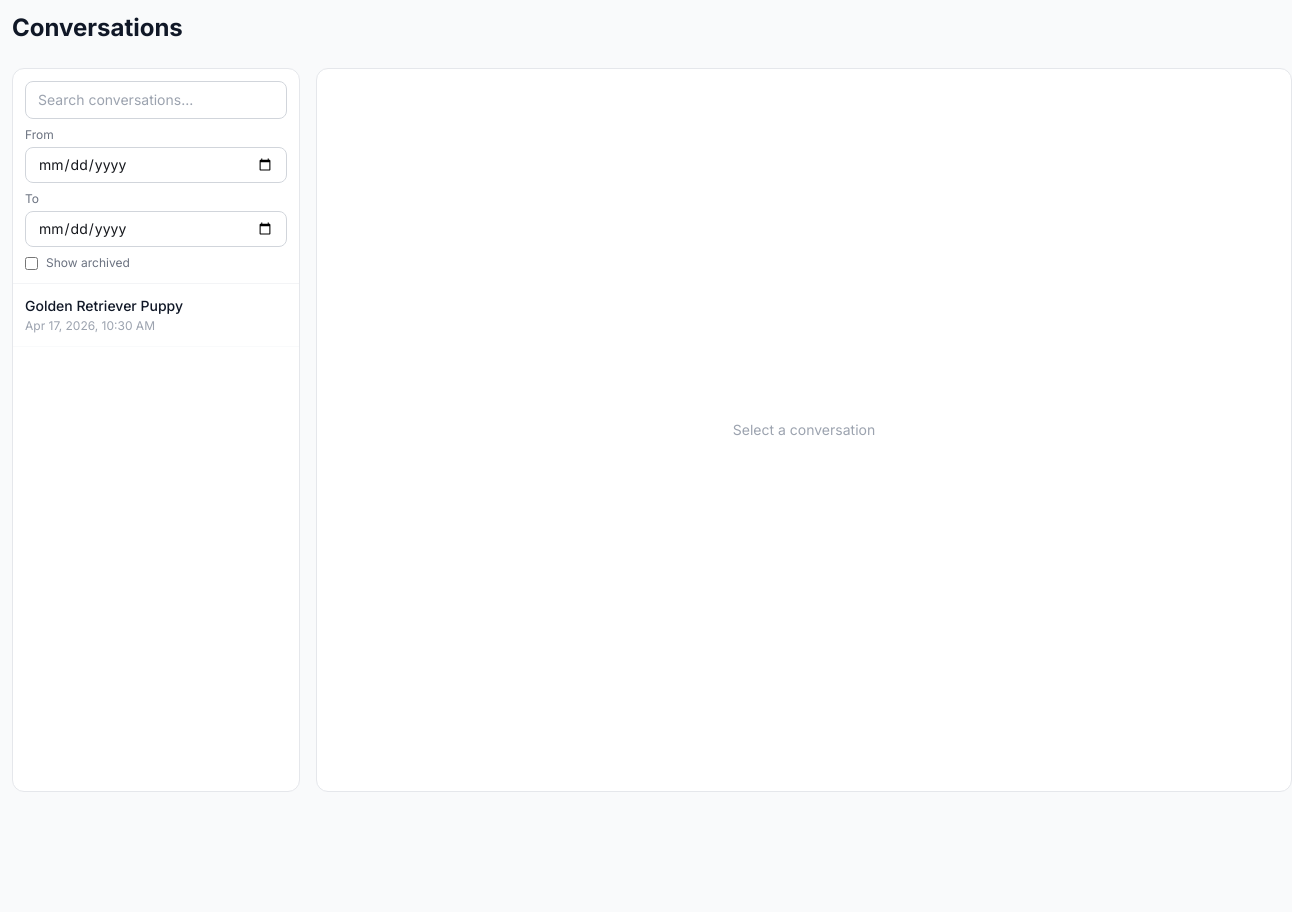
Test: Conversations — internal note message visibility › vendor can see the internal note message
Click the text "Golden Retriever Puppy" at [104, 306], box [25,297,183,314]
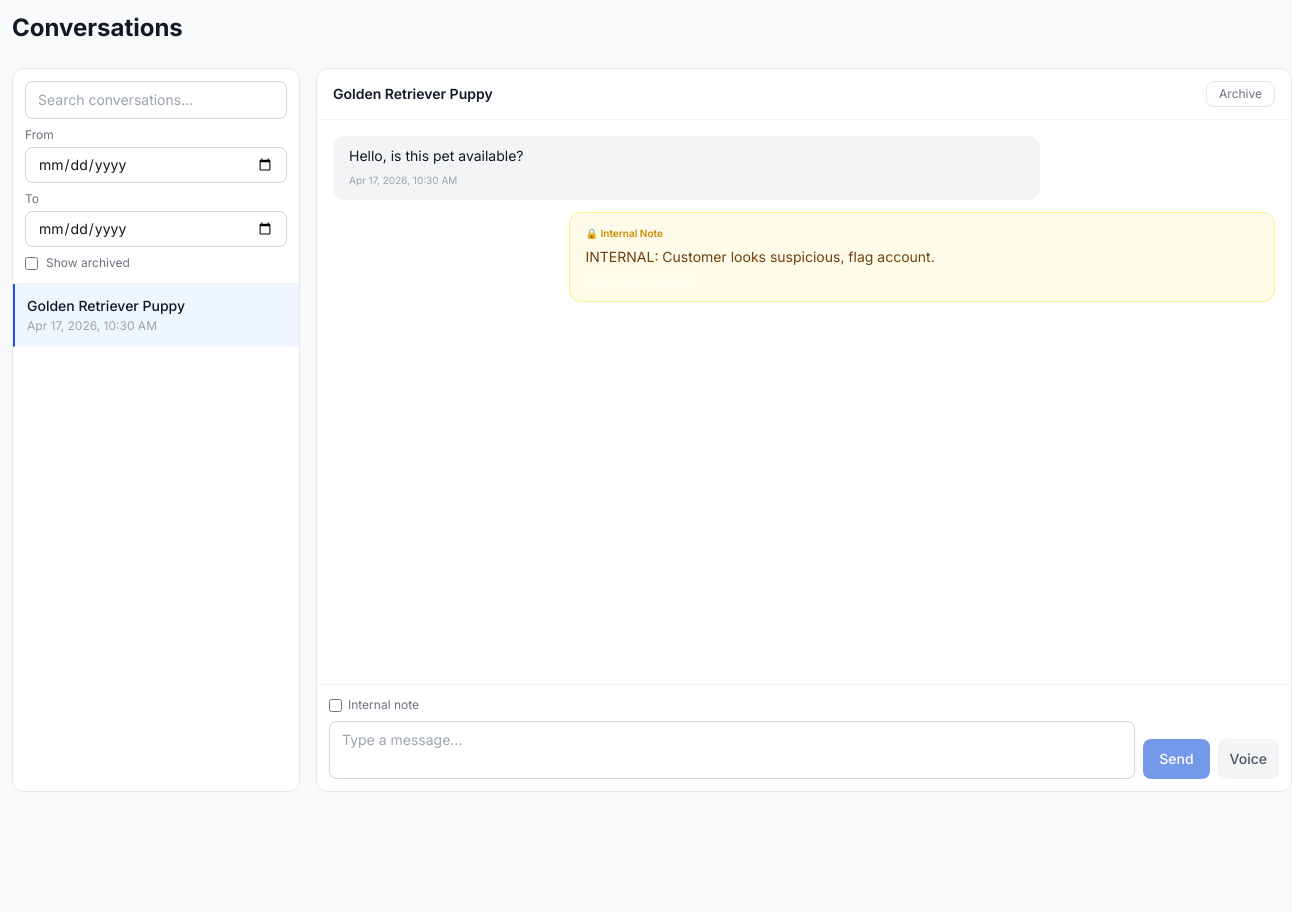
Check: the text "Hello, is this pet available?" is shown, box [349,147,524,164]
Check: the text "INTERNAL: Customer looks suspicious, flag account." is shown, box [586,248,935,265]
